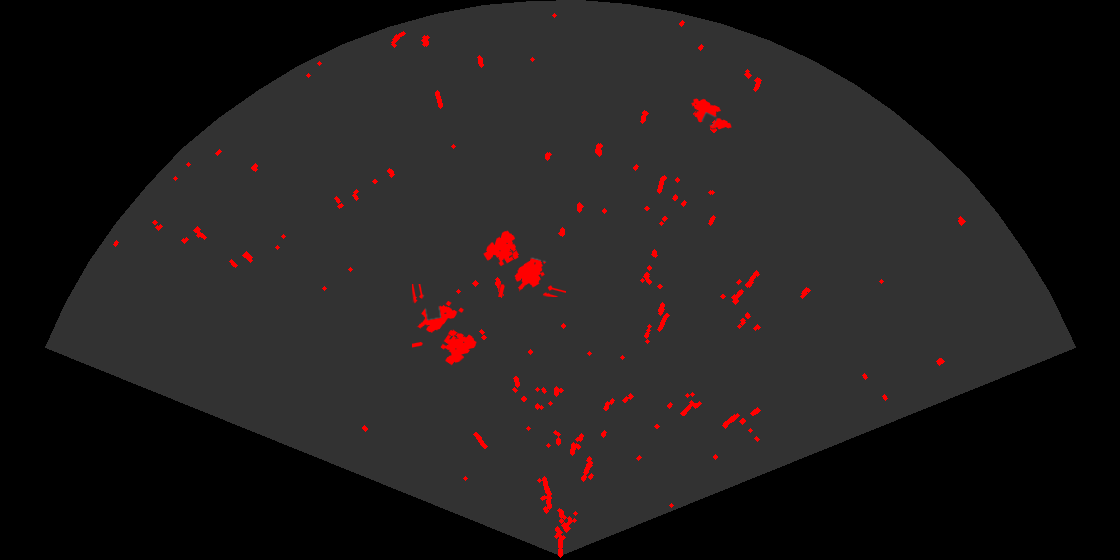AUV: (690, 97, 733, 131)
cage: (482, 229, 566, 297), (412, 284, 478, 367)
